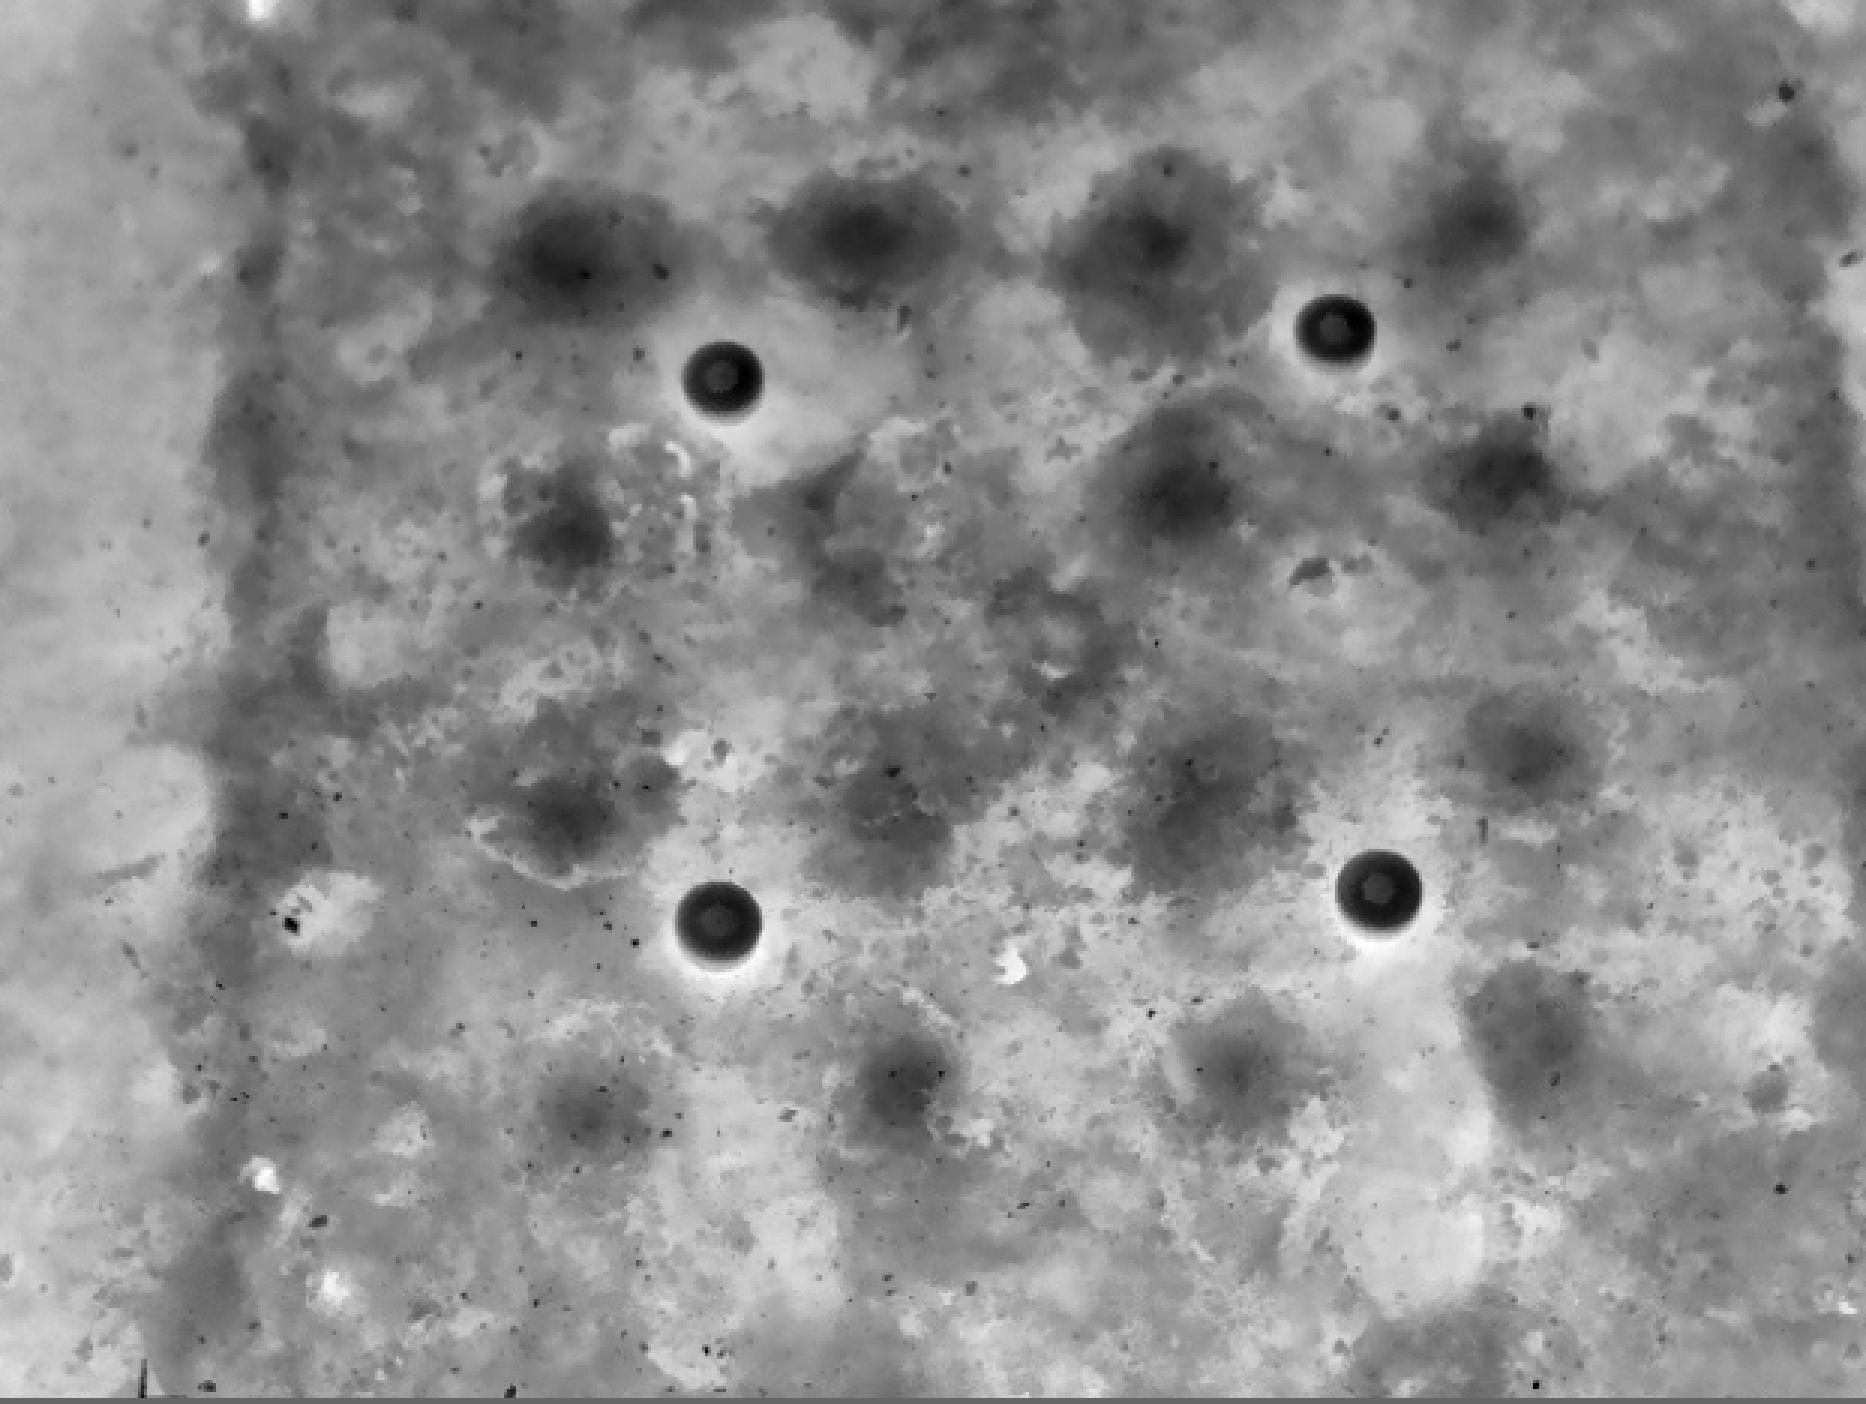mines-gjV8: (1328, 848, 1426, 944), (681, 866, 769, 965), (684, 335, 760, 419), (1303, 292, 1373, 364)
